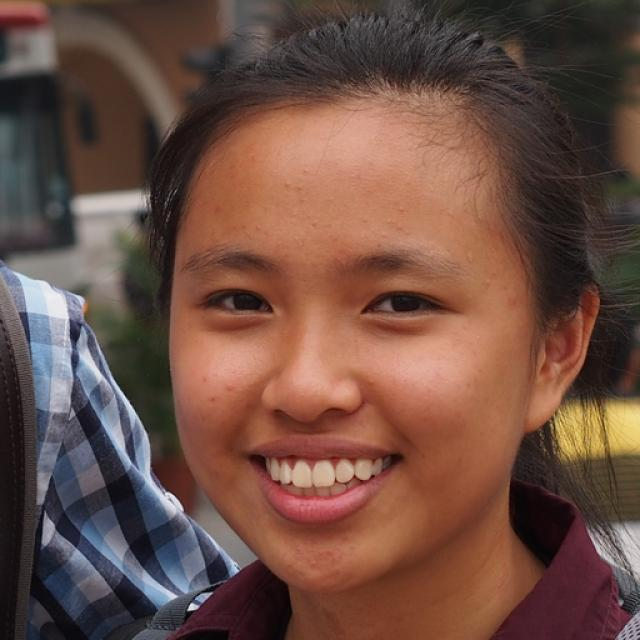happy: (167, 94, 528, 592)
